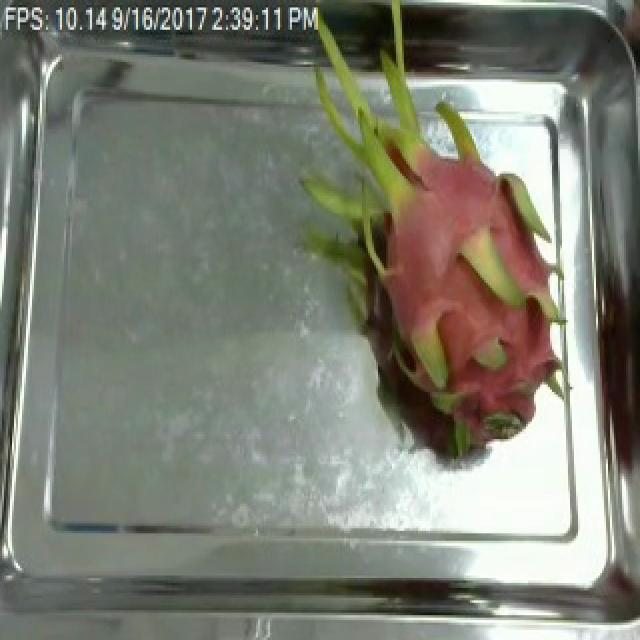fruit: (274, 44, 590, 478)
